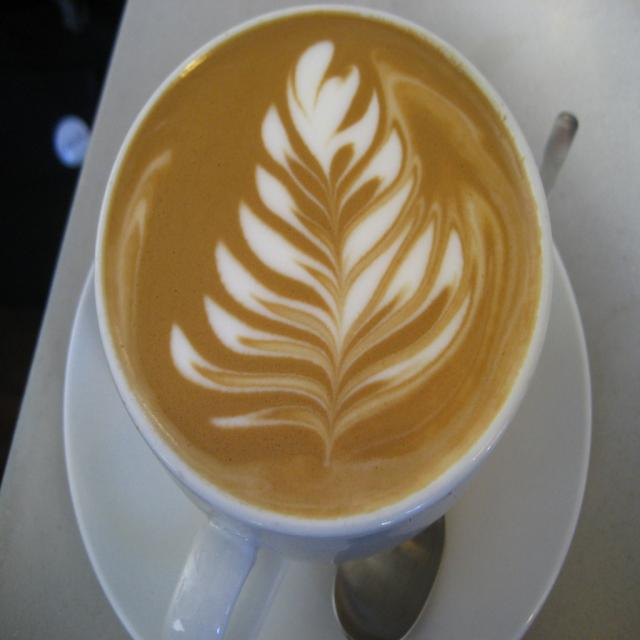latte: (91, 3, 554, 536)
